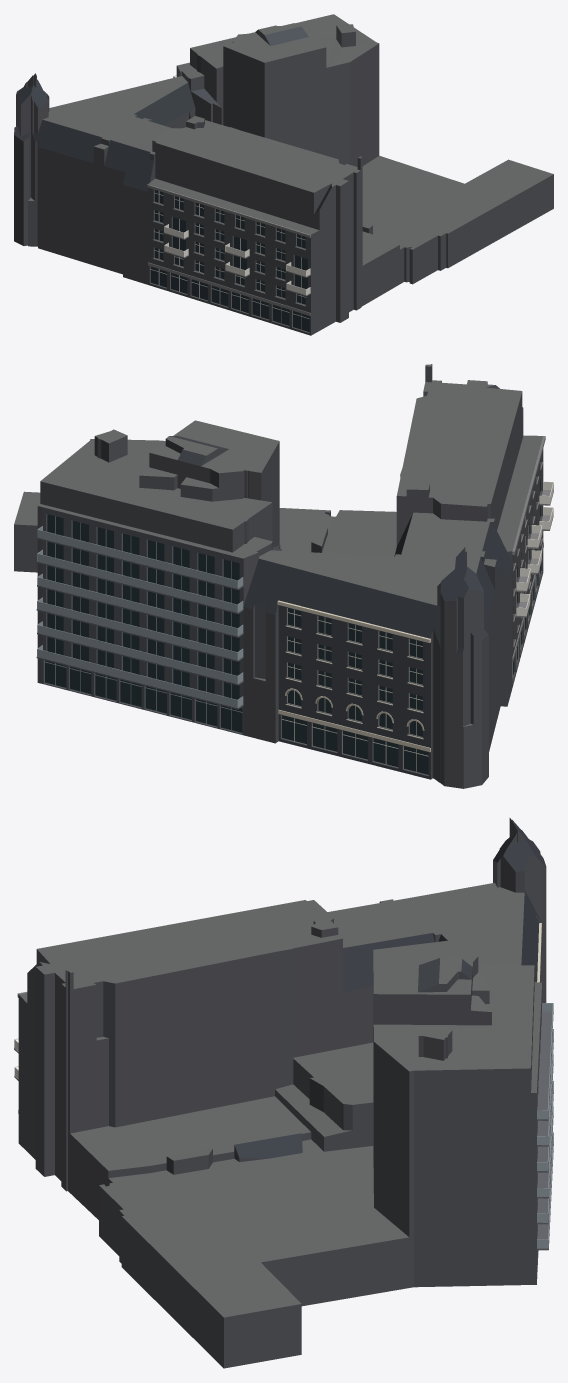
Rendered from recipe-large-stadhouderskade-25-233471.glb.
The picture shows the model from 3 angles, top to bottom: view 1: azimuth 30°, elevation 25°; view 2: azimuth 150°, elevation 25°; view 3: azimuth 270°, elevation 25°; orthographic projection. The views are drawn at different scales.
Visible parts, largest first — view 1: stadhouderskade-25-233471; view 2: stadhouderskade-25-233471; view 3: stadhouderskade-25-233471.
Boxes of the visible parts, left/top/right/bottom form: stadhouderskade-25-233471: left=14, top=14, right=553, bottom=335; stadhouderskade-25-233471: left=14, top=364, right=553, bottom=788; stadhouderskade-25-233471: left=14, top=818, right=553, bottom=1368.
Bounding box in the file's own units: 78.72 × 29.63 × 56.87.
